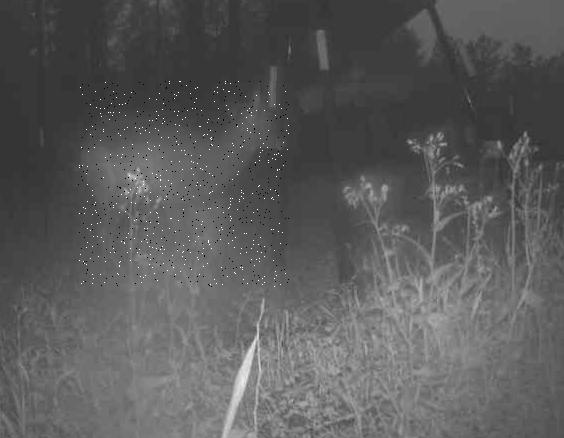Deer: (79, 81, 290, 287)
